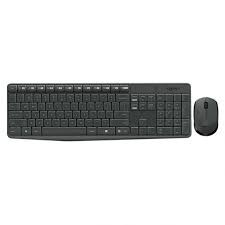keyboard: (3, 78, 192, 152)
mouse: (192, 93, 221, 143)
